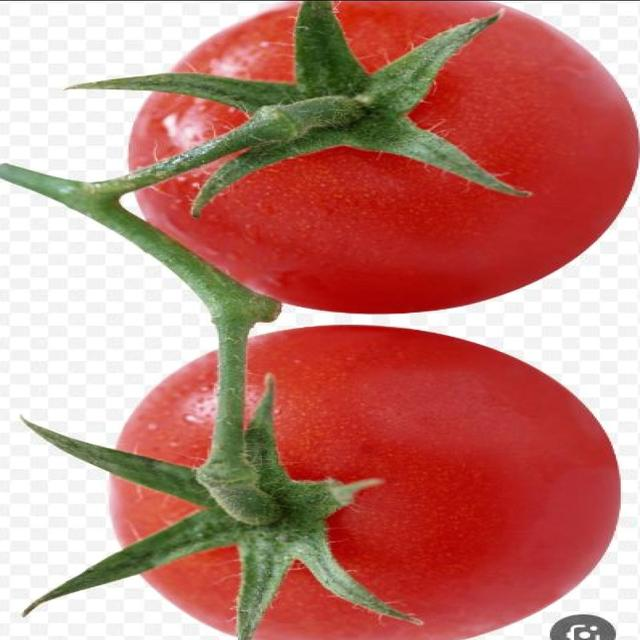Healthy Fruit: (65, 0, 422, 198)
